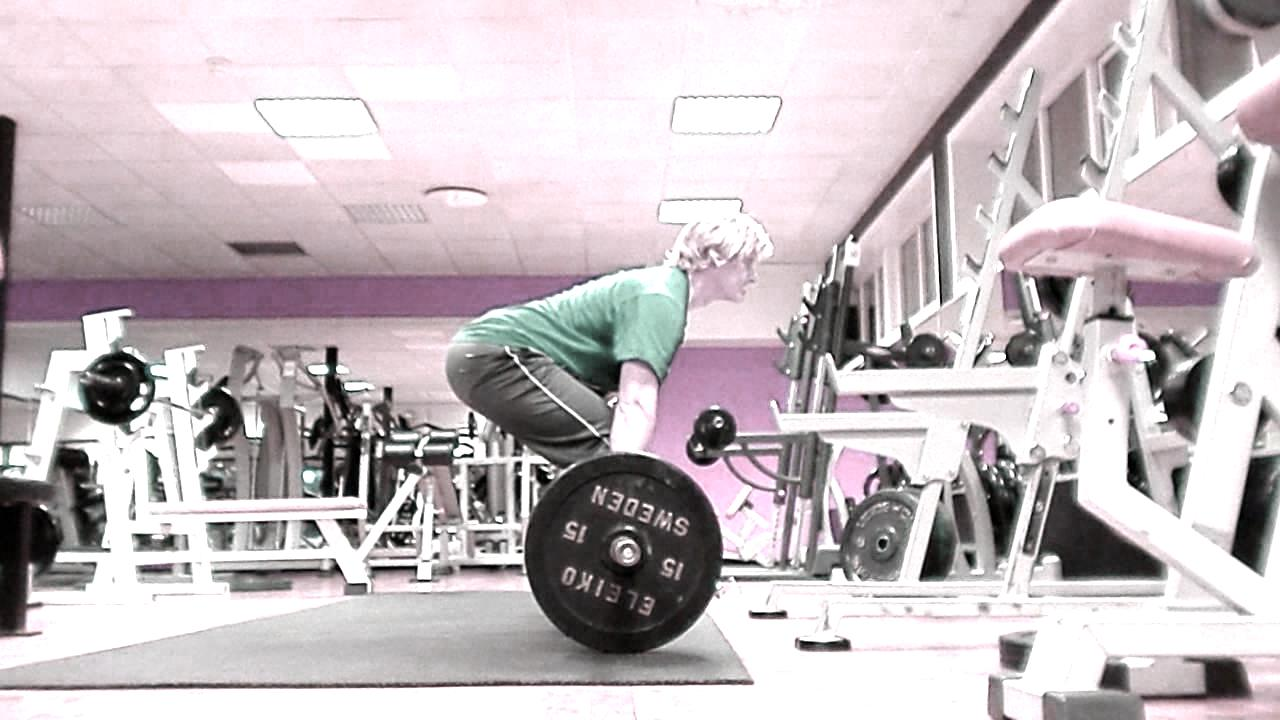Barbell: (615, 538, 644, 570)
